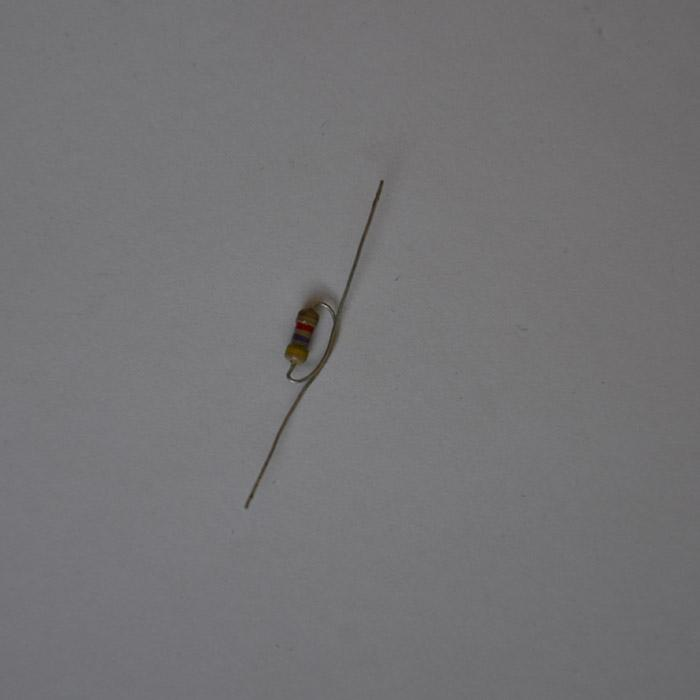resistor: (283, 306, 318, 366)
